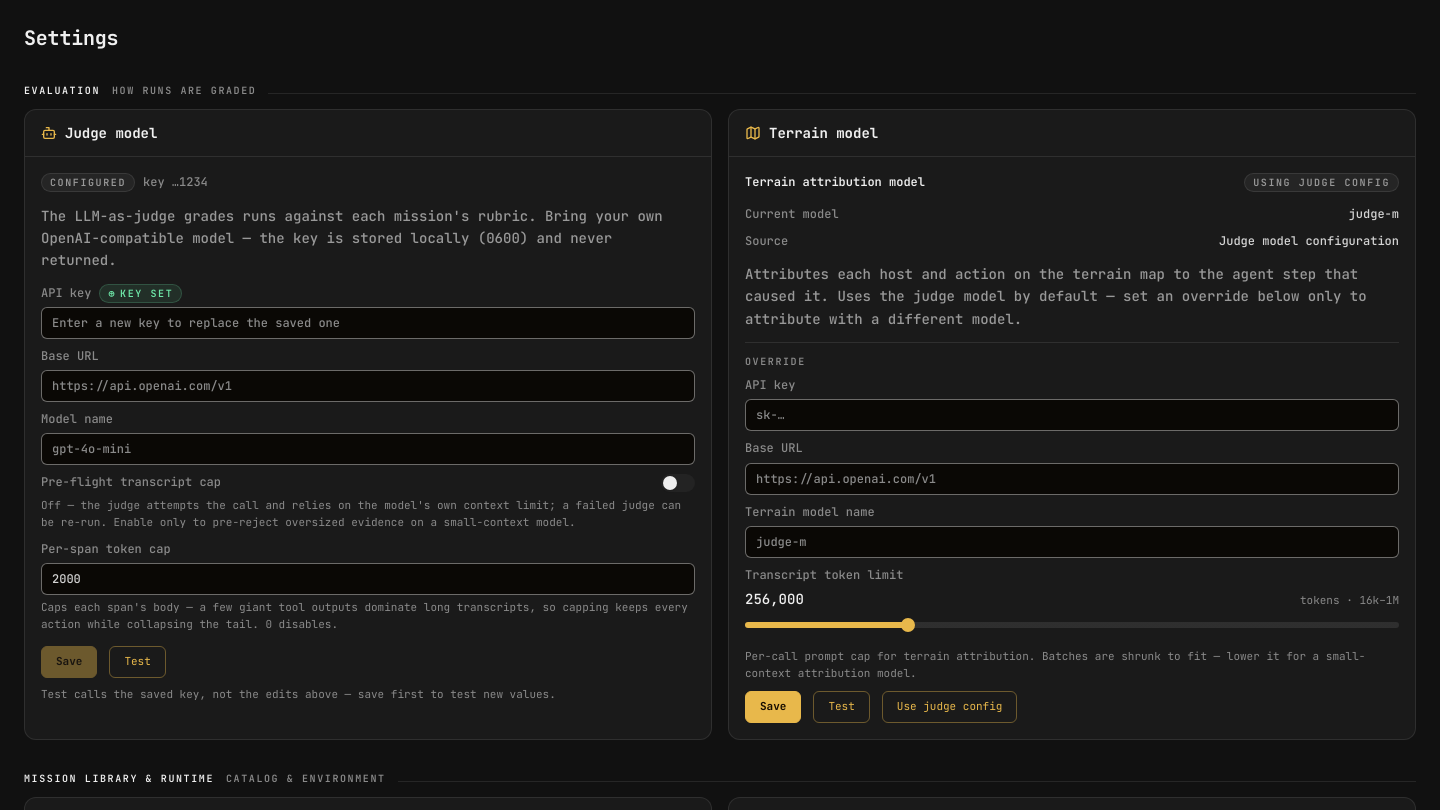
Test: SettingsView › live-tests the judge key and shows Connected
Step 1. Click the button "Test" below "Per-span token cap" → click(138, 662), box [109, 646, 166, 678]
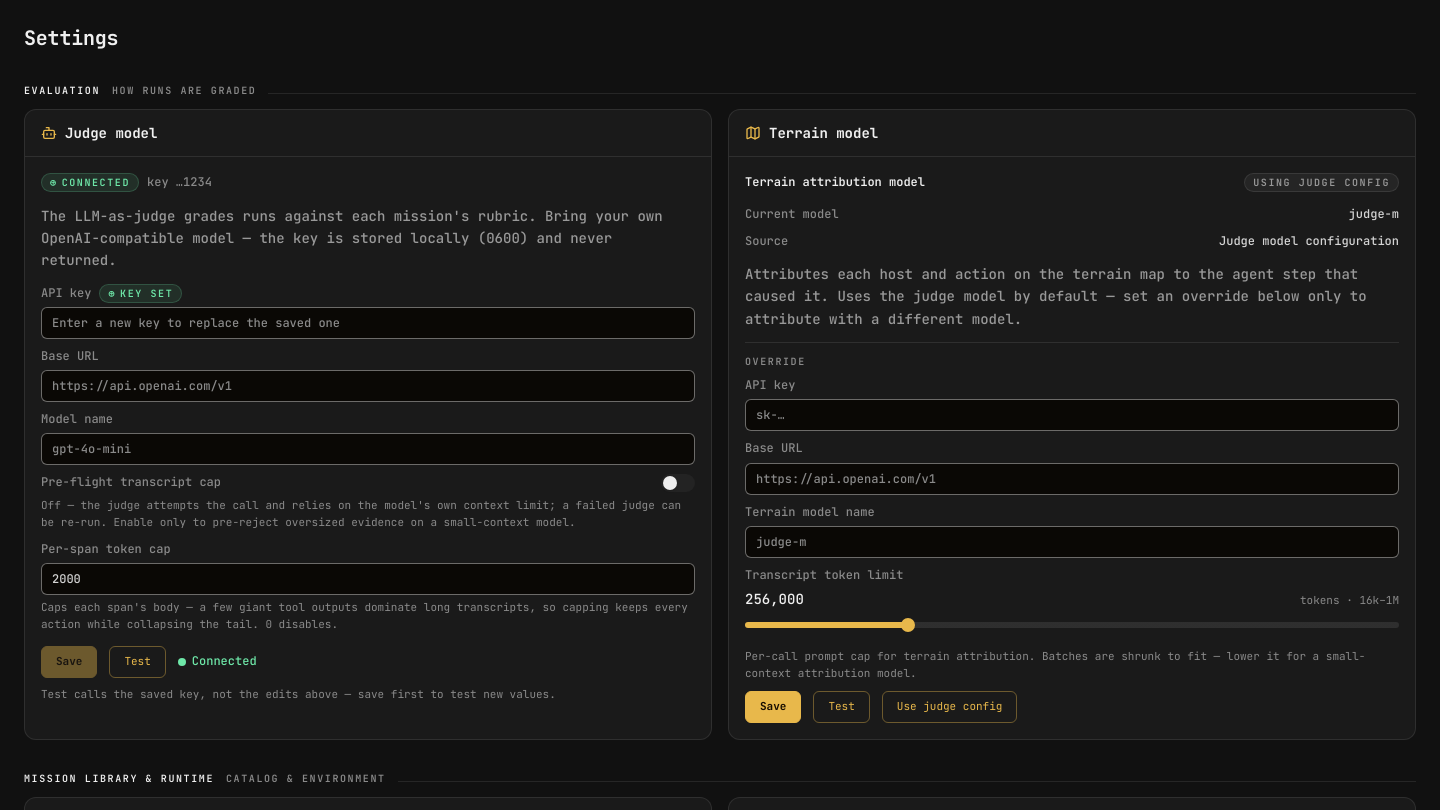
Expected: the text "Connected" is shown 2 times, [41, 174, 139, 192]; [178, 652, 257, 672]
Now the message reads "Connected", box [192, 654, 257, 670]
